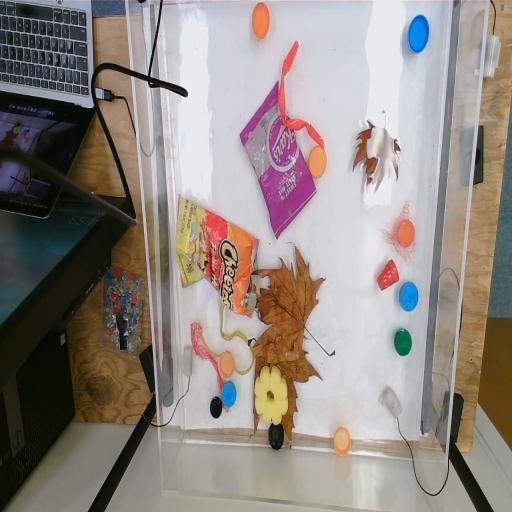Bottle Cap: (407, 13, 430, 55), (308, 146, 328, 180), (252, 2, 270, 39), (399, 281, 419, 312), (397, 219, 415, 248), (334, 426, 351, 456), (394, 328, 412, 356), (218, 351, 235, 379), (268, 422, 284, 450), (220, 381, 236, 408), (210, 396, 222, 418)
Cone Cap: (377, 257, 400, 293)
Leaf: (250, 242, 336, 364), (247, 335, 324, 450), (352, 108, 402, 196)
Netting: (190, 320, 232, 418), (379, 196, 418, 267)
Plastic Bag: (238, 80, 318, 240), (175, 192, 260, 320)
Plastic Strand: (278, 38, 326, 152), (196, 296, 254, 376)
Sponge: (254, 364, 289, 426)
